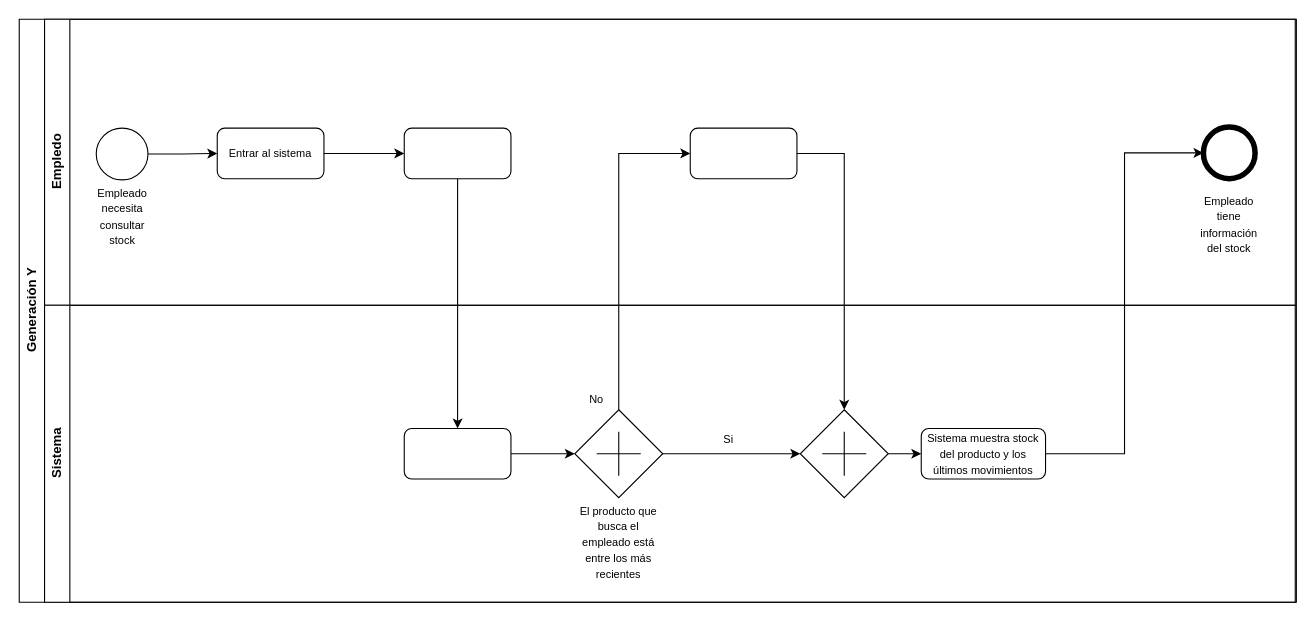
Image size: 1316x622. Some labels were removed from this diagram. The shapes that lost their labels are listed below. From the top down, each one's centre as x and y in pixels, then its label:
point (457, 153): Seleccionar opción "Consultar stock"
point (743, 153): Buscar manualmente por teclado
point (457, 453): Sistema muestra la interfaz para consultar stock
